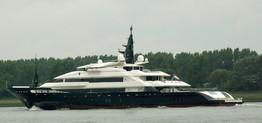yacht: (4, 30, 244, 111)
